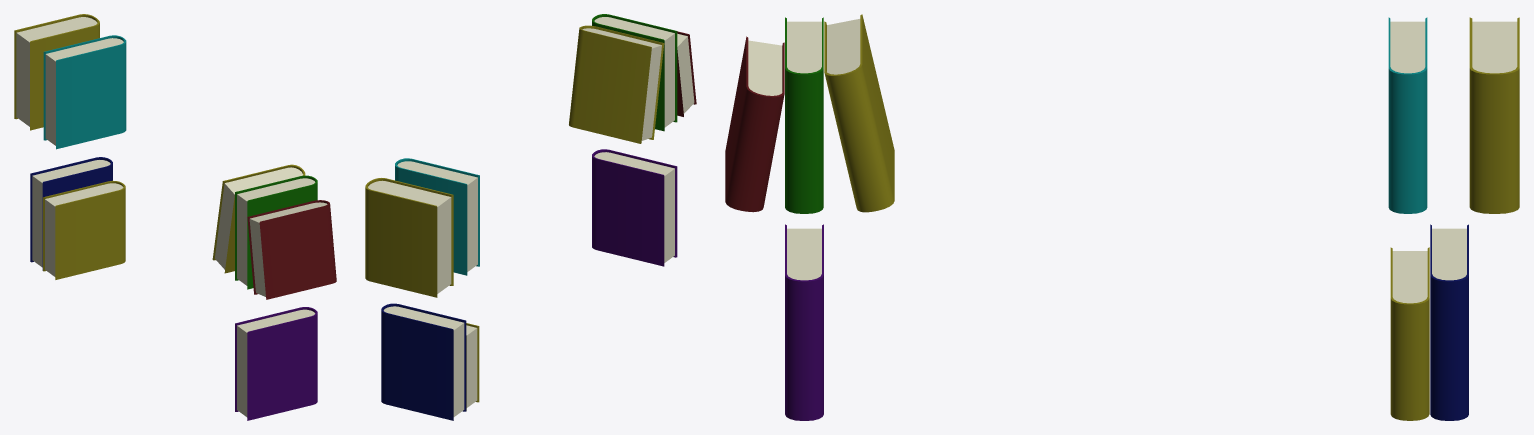
Rendered from books_shelve_04.glb.
3 views of the same model, side by side, from view 1: azimuth 30°, elevation 25°; view 2: azimuth 150°, elevation 25°; view 3: azimuth 270°, elevation 25° (orthographic). The views are drawn at different scales.
Parts seen in each view (by area): view 1: Cube.479; view 2: Cube.479; view 3: Cube.479.
Part boxes in pixels (x1,y1,x2,y2): Cube.479: (14, 14, 336, 420); Cube.479: (365, 14, 696, 420); Cube.479: (725, 14, 1519, 420).
Size of the model in its own units: 0.1327 by 0.3787 by 0.7793.
